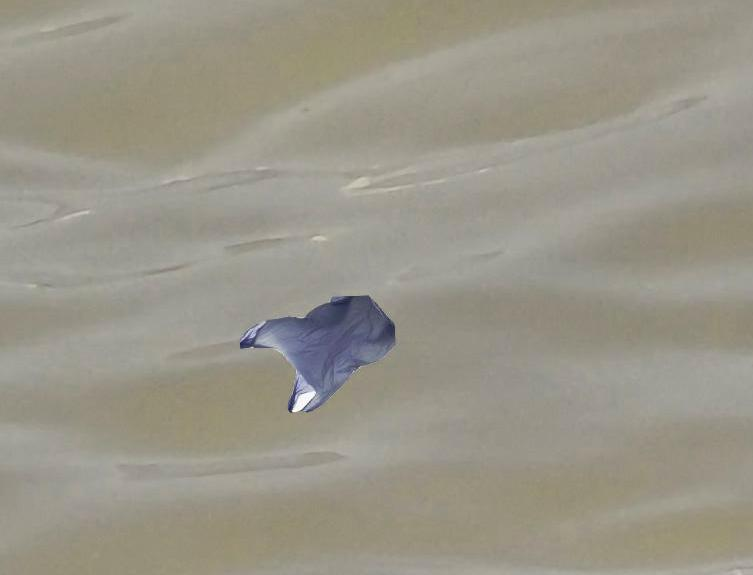Trash: (232, 290, 400, 416)
